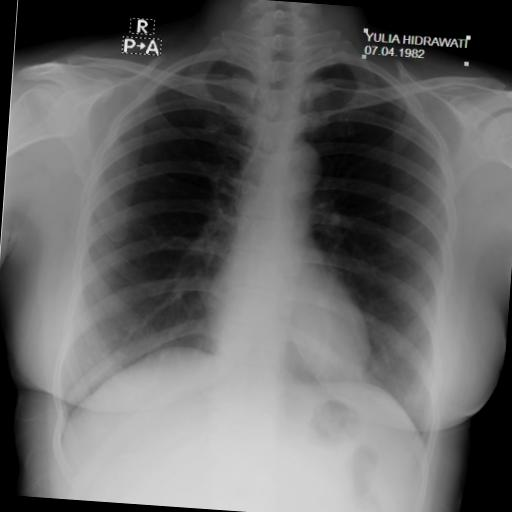normal: (48, 22, 472, 477)
